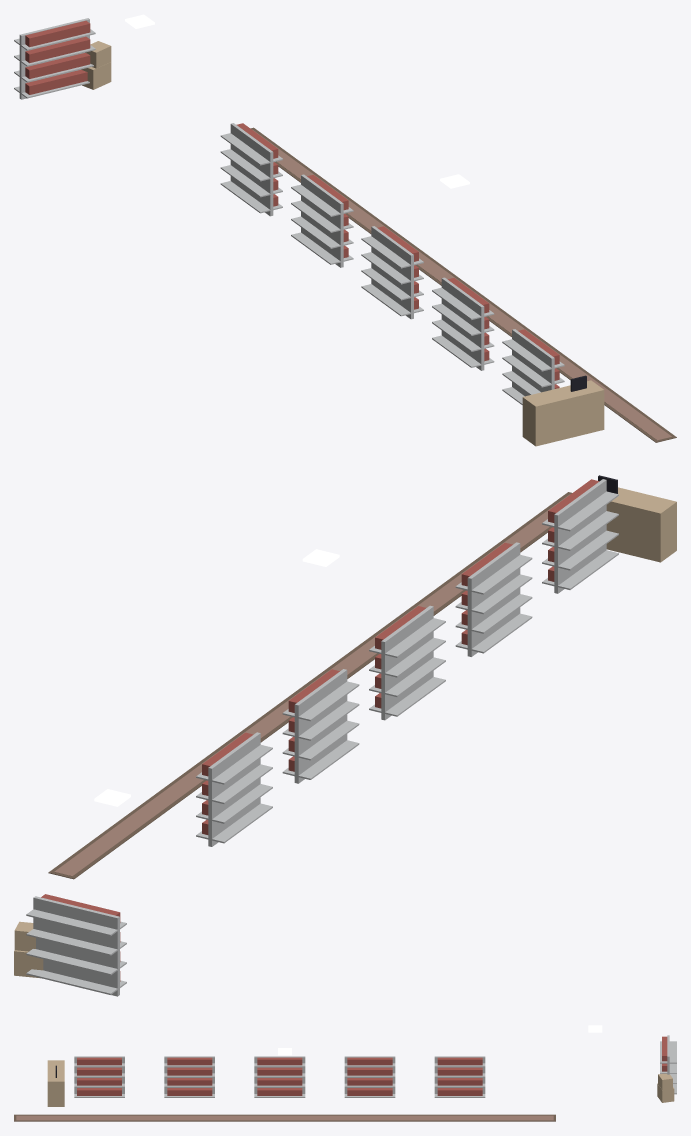
Rendered from fine-s0.glb.
3 renders of one model, top to bottom at view 1: azimuth 30°, elevation 25°; view 2: azimuth 150°, elevation 25°; view 3: azimuth 270°, elevation 25°, orthographic. The views are drawn at different scales.
Visible parts, largest first — view 1: soft-s0, shelving.000, shop-counter.000, shelf.003, shelf.000, shelf.001, shelf.002, shelf.004, cardboard-box.000; view 2: soft-s0, shelving.000, shelf.001, shelf.003, shelf.000, shelf.004, shelf.002, shop-counter.000, cardboard-box.000; view 3: soft-s0, shelf.000, shelf.001, shelf.002, shelf.003, shelf.004, shop-counter.000, shelving.000, cardboard-box.000.
Boxes of the visible parts, bbox=[...] form: soft-s0: bbox=[250, 127, 676, 442]; shelving.000: bbox=[14, 18, 95, 99]; shop-counter.000: bbox=[522, 375, 604, 446]; shelf.003: bbox=[432, 277, 494, 370]; shelf.000: bbox=[220, 123, 282, 216]; shelf.001: bbox=[291, 174, 353, 267]; shelf.002: bbox=[361, 226, 423, 319]; shelf.004: bbox=[502, 329, 564, 404]; cardboard-box.000: bbox=[81, 41, 111, 89]; soft-s0: bbox=[48, 492, 571, 879]; shelving.000: bbox=[26, 894, 126, 996]; shelf.001: bbox=[282, 669, 359, 783]; shelf.003: bbox=[455, 542, 532, 656]; shelf.000: bbox=[196, 732, 272, 846]; shelf.004: bbox=[542, 479, 618, 593]; shelf.002: bbox=[369, 605, 445, 720]; shop-counter.000: bbox=[598, 475, 676, 562]; cardboard-box.000: bbox=[14, 921, 43, 978]; soft-s0: bbox=[14, 1114, 555, 1121]; shelf.000: bbox=[434, 1056, 485, 1097]; shelf.001: bbox=[344, 1056, 395, 1097]; shelf.002: bbox=[254, 1056, 305, 1097]; shelf.003: bbox=[164, 1056, 214, 1097]; shelf.004: bbox=[74, 1056, 124, 1097]; shop-counter.000: bbox=[47, 1060, 64, 1106]; shelving.000: bbox=[660, 1035, 676, 1094]; cardboard-box.000: bbox=[657, 1073, 674, 1102].
Bounding box in the file's own units: 3.81 × 2.64 × 23.54.
